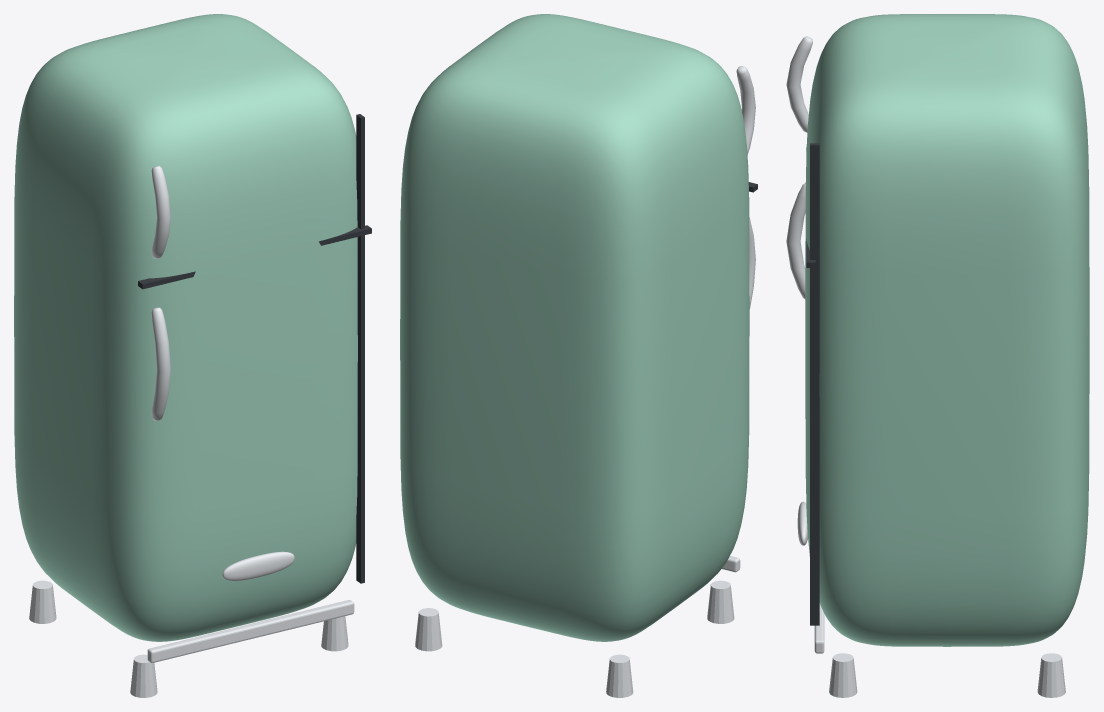
The model's file is nevera.glb.
3 views of the same model, side by side, from view 1: azimuth 30°, elevation 25°; view 2: azimuth 150°, elevation 25°; view 3: azimuth 270°, elevation 25° (orthographic). The views are drawn at different scales.
Visible parts, largest first — view 1: cuerpo, junta_lado, zocalo, tirador_bajo, placa, tirador_alto, pata-11, pata-1-1, pata1-1, junta_alta; view 2: cuerpo, pata11, pata-1-1, pata-11, tirador_alto; view 3: cuerpo, junta_lado, tirador_bajo, tirador_alto, pata1-1, pata11.
Boxes of the visible parts, x1=… form: cuerpo: x1=14, y1=14, x2=357, y2=641; junta_lado: x1=356, y1=114, x2=364, y2=583; zocalo: x1=147, y1=600, x2=354, y2=662; tirador_bajo: x1=151, y1=307, x2=170, y2=420; placa: x1=222, y1=551, x2=294, y2=580; tirador_alto: x1=151, y1=166, x2=170, y2=258; pata-11: x1=29, y1=580, x2=56, y2=623; pata-1-1: x1=130, y1=654, x2=157, y2=697; pata1-1: x1=321, y1=616, x2=348, y2=651; junta_alta: x1=138, y1=225, x2=371, y2=289; cuerpo: x1=400, y1=14, x2=749, y2=641; pata11: x1=415, y1=608, x2=442, y2=651; pata-1-1: x1=707, y1=580, x2=734, y2=623; pata-11: x1=606, y1=654, x2=633, y2=697; tirador_alto: x1=736, y1=66, x2=755, y2=154; cuerpo: x1=805, y1=14, x2=1089, y2=646; junta_lado: x1=810, y1=143, x2=819, y2=625; tirador_bajo: x1=786, y1=183, x2=805, y2=299; tirador_alto: x1=786, y1=36, x2=812, y2=132; pata1-1: x1=829, y1=653, x2=857, y2=697; pata11: x1=1037, y1=653, x2=1065, y2=697.
Size of the model in its own units: 0.5952 by 1.28 by 0.5952.
